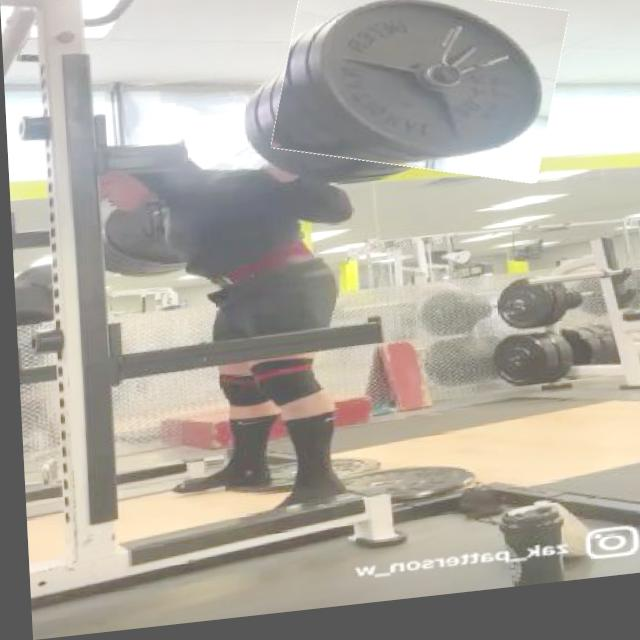barbell: (271, 1, 567, 203)
